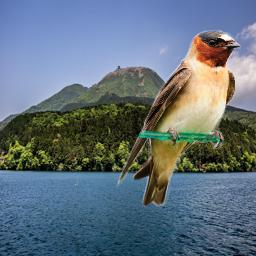Swallow: (117, 30, 241, 207)
